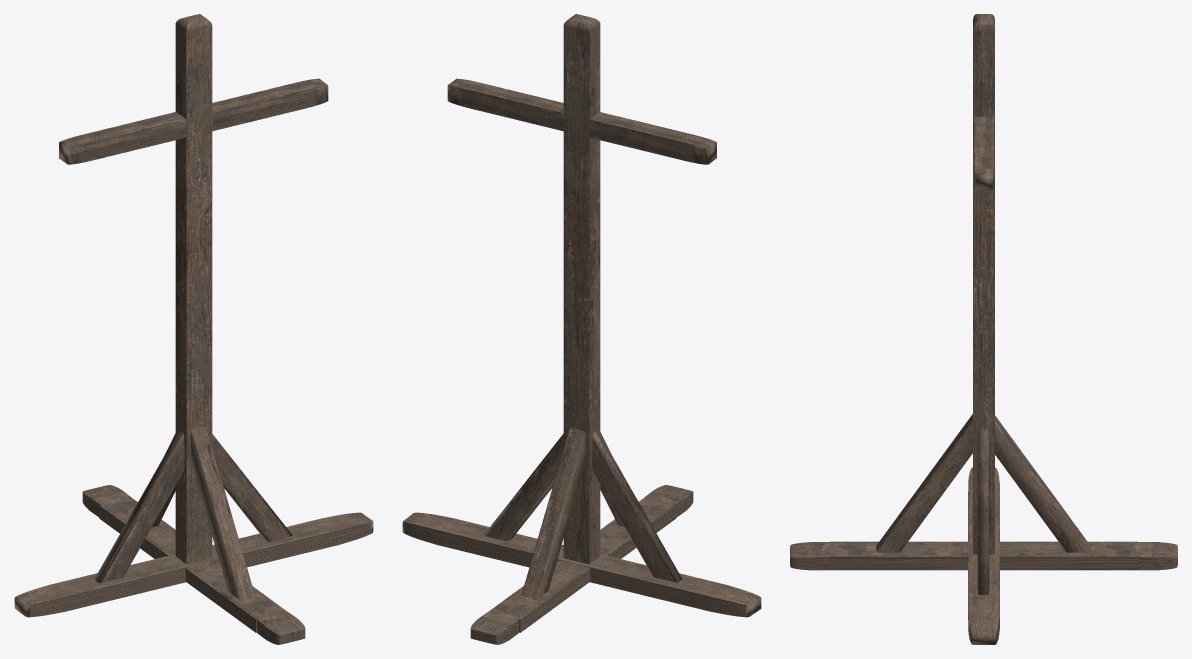
File: estand_armadura.glb
3 views of the same model, side by side, from view 1: azimuth 30°, elevation 25°; view 2: azimuth 150°, elevation 25°; view 3: azimuth 270°, elevation 25° (orthographic).
Parts seen in each view (by area): view 1: Cube.007; view 2: Cube.007; view 3: Cube.007.
Boxes of the visible parts, <box> form: Cube.007: <box>14,14,373,644</box>; Cube.007: <box>402,14,761,644</box>; Cube.007: <box>790,14,1177,644</box>.
Size of the model in its own units: 3 by 4.58 by 2.94.
1 material, 1 textured.
